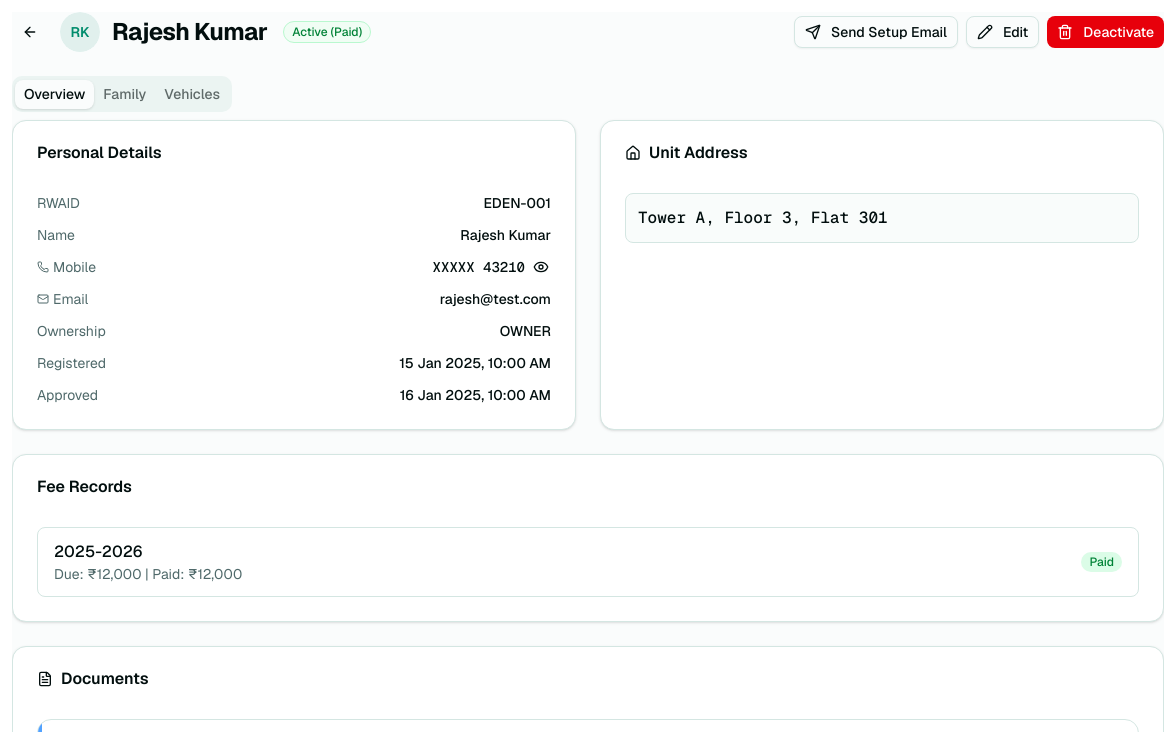
Test: ResidentDetailPage › reveals mobile number when eye button is clicked
Expected: the text "XXXXX 43210" is shown, [433,257,525,277]
Click the button named "Show mobile number" at [541, 267], box [531,257,551,277]
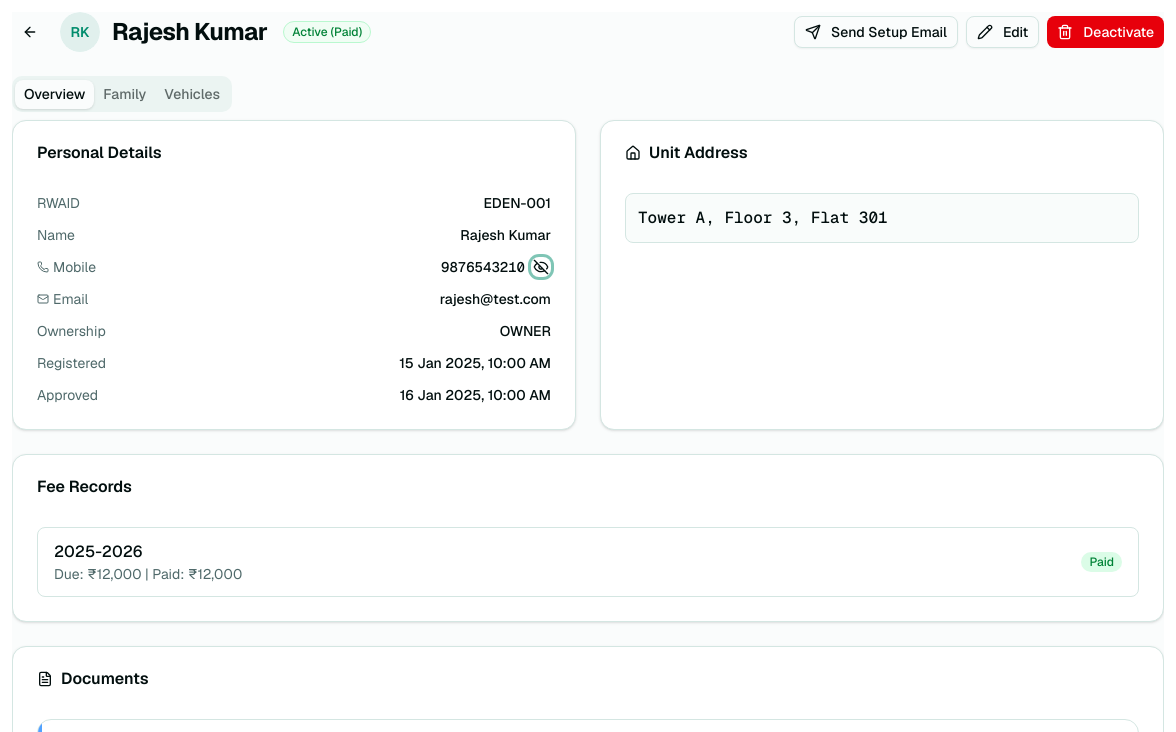
Expected: the text "9876543210" is shown, [441,257,525,277]
